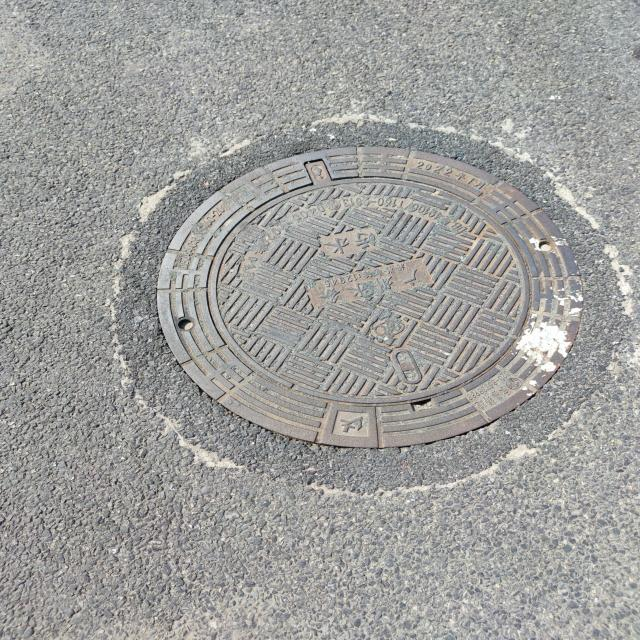Good: (149, 142, 594, 456)
